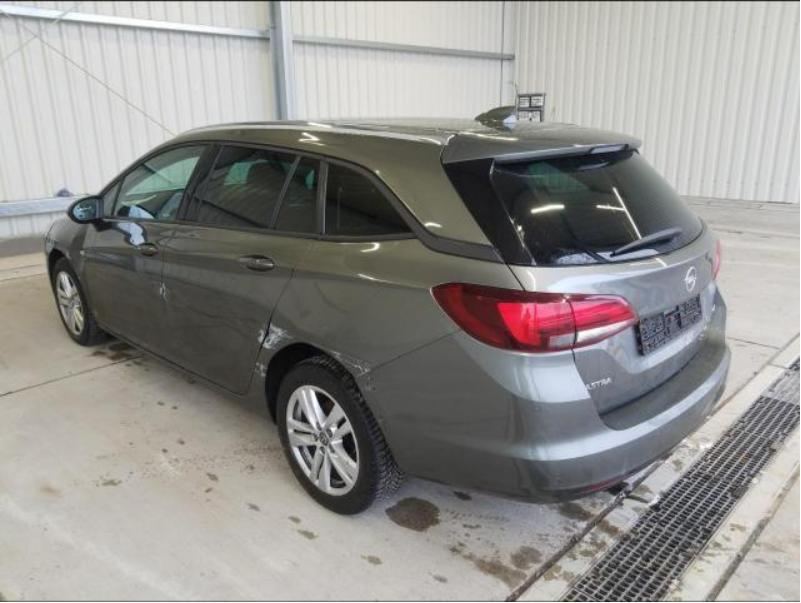Back-bumper: (354, 290, 728, 507)
Back-door: (160, 143, 323, 395)
Back-wheel: (279, 358, 402, 512)
Back-window: (187, 144, 323, 235), (327, 167, 410, 235)
Back-windshield: (443, 148, 698, 266)
Fender: (44, 218, 99, 322)
Front-door: (88, 141, 215, 360)
Front-wheel: (52, 256, 116, 342)
Front-window: (102, 145, 210, 218)
License-plate: (635, 295, 703, 359)
Mirror: (70, 198, 103, 221)
Quarter-panel: (247, 238, 523, 423)
Rocker-panel: (97, 321, 270, 422)
Roof: (148, 120, 609, 165)
Tail-light: (431, 281, 574, 353), (565, 298, 636, 346), (712, 242, 722, 277)
Trunk: (507, 228, 715, 414), (442, 130, 642, 164)
